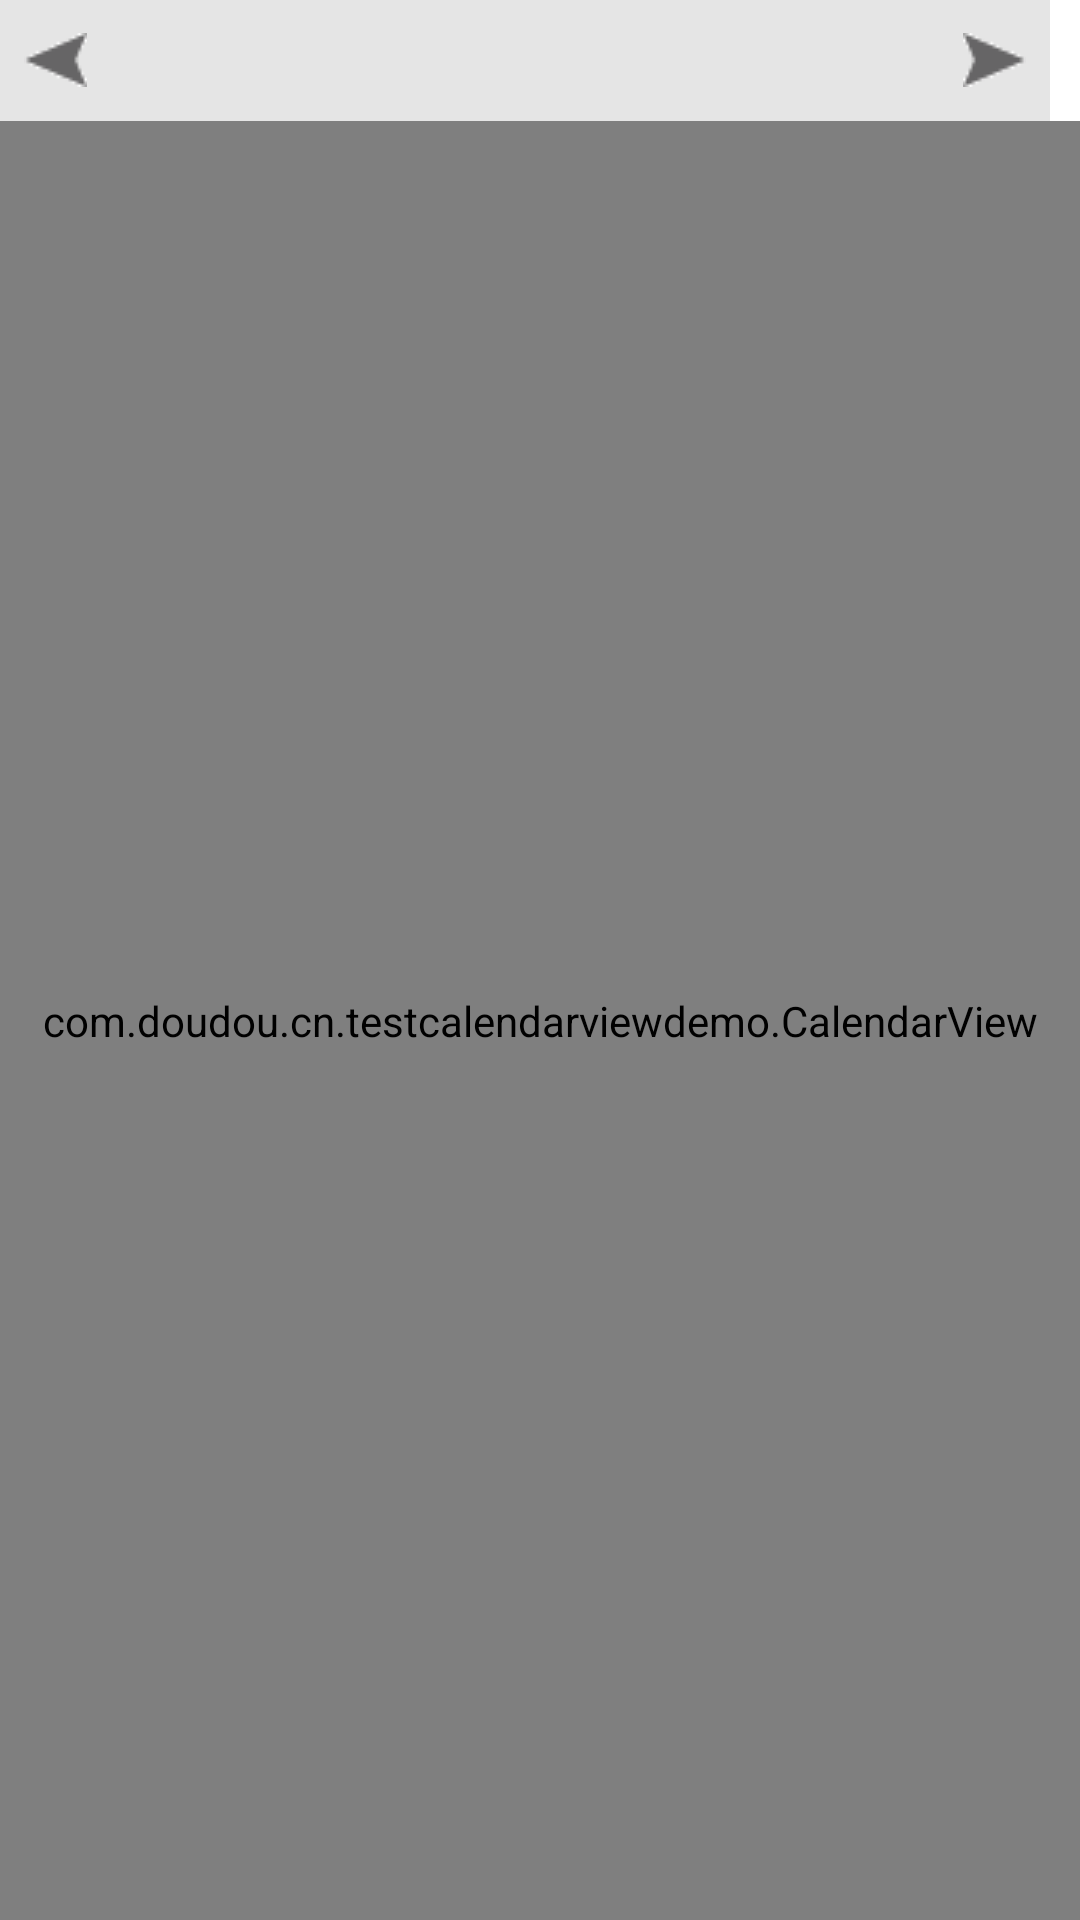

Where to tap for icons on this 1080px×1920px app screen, as (x=x, y=y):
left jiantou: (x=56, y=60)
right jiantou: (x=993, y=60)
